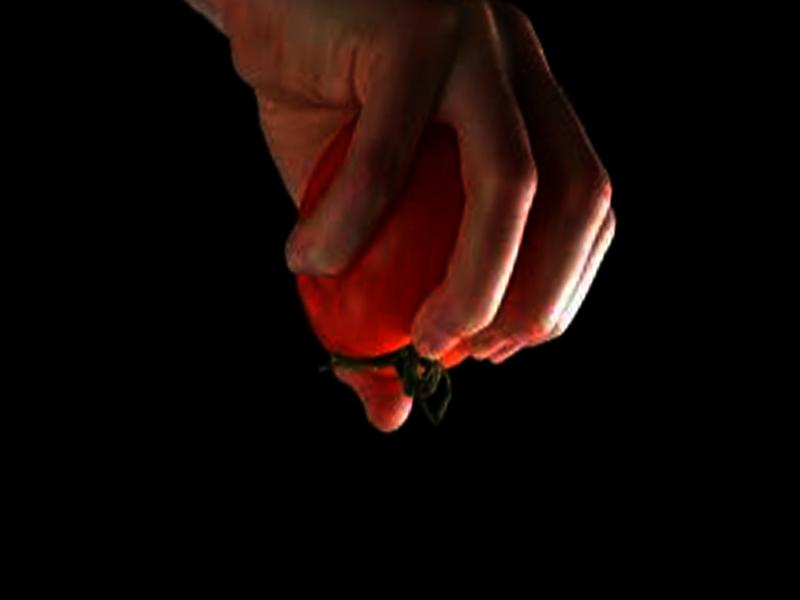Tomato: (281, 98, 501, 374)
